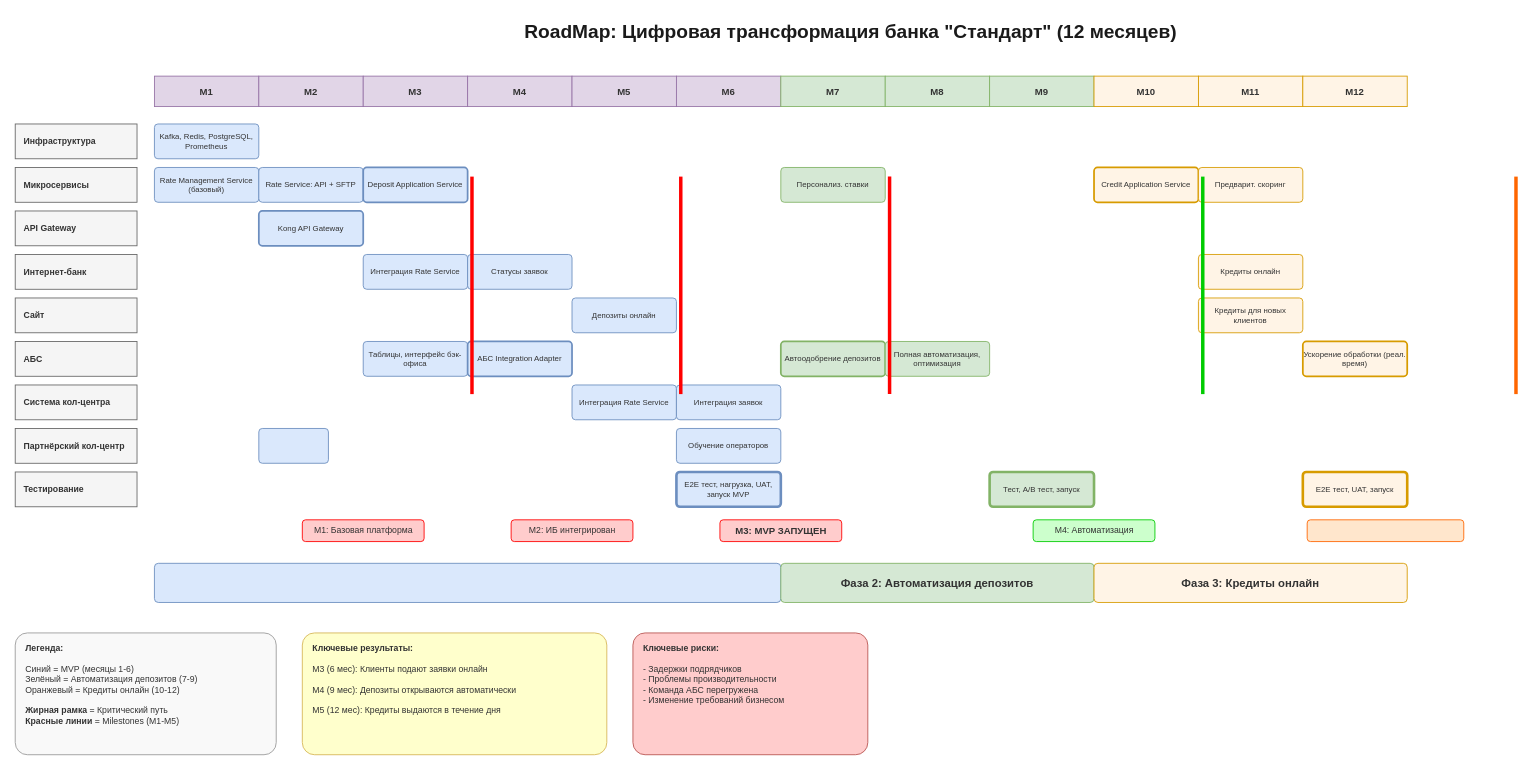
This 1533x770 diagram has some shape labels left out. The centre of each missing label's shape, as x and y in pixels:
"M5: ЦЕЛЕВОЕ СОСТОЯНИЕ" goes at (x=1385, y=530).
"Настройка SFTP" goes at (x=293, y=445).
"Фаза 1: Подготовка и MVP" goes at (x=467, y=582).
